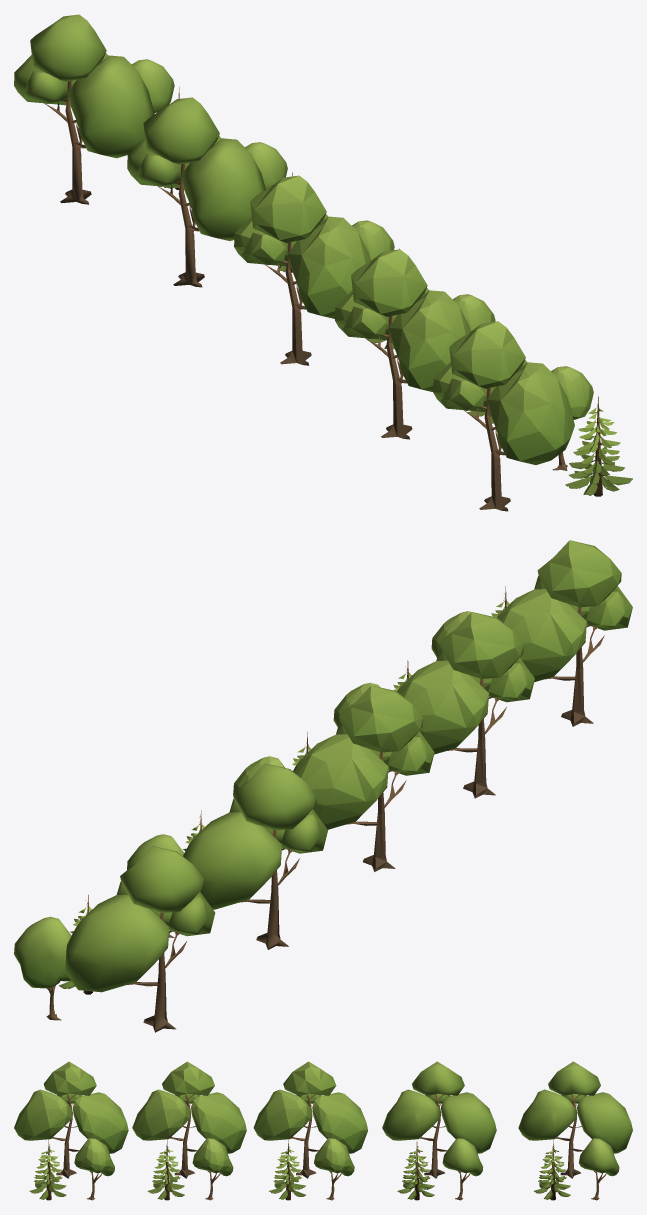
The model's file is tree_test.glb.
3 views of the same model, one above another, from view 1: azimuth 30°, elevation 25°; view 2: azimuth 150°, elevation 25°; view 3: azimuth 270°, elevation 25° (orthographic). The views are drawn at different scales.
Visible parts, largest first — view 1: Spring_Tree_10_LOD1.002, Spring_Tree_10_LOD1.004, Spring_Tree_10_LOD1.003, Spring_Tree_10_LOD1, Spring_Tree_10_LOD1.001, Spring_Tree_05_LOD1.002, Spring_Tree_13_LOD1.002, Spring_Tree_13_LOD1.004, Spring_Tree_13_LOD1.003, Spring_Tree_13_LOD1, Spring_Tree_13_LOD1.001; view 2: Spring_Tree_10_LOD1.004, Spring_Tree_10_LOD1.003, Spring_Tree_10_LOD1, Spring_Tree_10_LOD1.001, Spring_Tree_10_LOD1.002, Spring_Tree_13_LOD1.004, Spring_Tree_13_LOD1.003; view 3: Spring_Tree_10_LOD1.003, Spring_Tree_10_LOD1.004, Spring_Tree_10_LOD1.002, Spring_Tree_10_LOD1.001, Spring_Tree_10_LOD1, Spring_Tree_13_LOD1.004, Spring_Tree_13_LOD1, Spring_Tree_13_LOD1.001, Spring_Tree_13_LOD1.002, Spring_Tree_13_LOD1.003, Spring_Tree_05_LOD1.001, Spring_Tree_05_LOD1.003 (+3 smaller).
Boxes of the visible parts, left/top/right/bottom form: Spring_Tree_10_LOD1.002: left=433, top=321, right=574, bottom=511; Spring_Tree_10_LOD1.004: left=14, top=14, right=154, bottom=204; Spring_Tree_10_LOD1.003: left=127, top=97, right=265, bottom=287; Spring_Tree_10_LOD1: left=234, top=175, right=370, bottom=365; Spring_Tree_10_LOD1.001: left=335, top=249, right=470, bottom=439; Spring_Tree_05_LOD1.002: left=565, top=396, right=632, bottom=496; Spring_Tree_13_LOD1.002: left=551, top=366, right=593, bottom=470; Spring_Tree_13_LOD1.004: left=132, top=59, right=174, bottom=113; Spring_Tree_13_LOD1.003: left=245, top=142, right=287, bottom=189; Spring_Tree_13_LOD1: left=352, top=220, right=394, bottom=260; Spring_Tree_13_LOD1.001: left=453, top=294, right=495, bottom=330; Spring_Tree_10_LOD1.004: left=65, top=846, right=215, bottom=1032; Spring_Tree_10_LOD1.003: left=183, top=763, right=327, bottom=949; Spring_Tree_10_LOD1: left=293, top=685, right=434, bottom=871; Spring_Tree_10_LOD1.001: left=397, top=612, right=534, bottom=798; Spring_Tree_10_LOD1.002: left=497, top=540, right=632, bottom=726; Spring_Tree_13_LOD1.004: left=14, top=916, right=71, bottom=1020; Spring_Tree_13_LOD1.003: left=127, top=834, right=184, bottom=937; Spring_Tree_10_LOD1.003: left=382, top=1061, right=496, bottom=1178; Spring_Tree_10_LOD1.004: left=518, top=1061, right=632, bottom=1178; Spring_Tree_10_LOD1.002: left=14, top=1061, right=128, bottom=1178; Spring_Tree_10_LOD1.001: left=132, top=1061, right=246, bottom=1178; Spring_Tree_10_LOD1: left=253, top=1061, right=367, bottom=1178; Spring_Tree_13_LOD1.004: left=578, top=1138, right=619, bottom=1200; Spring_Tree_13_LOD1: left=314, top=1138, right=354, bottom=1200; Spring_Tree_13_LOD1.001: left=192, top=1138, right=233, bottom=1200; Spring_Tree_13_LOD1.002: left=74, top=1138, right=114, bottom=1200; Spring_Tree_13_LOD1.003: left=442, top=1138, right=483, bottom=1200; Spring_Tree_05_LOD1.001: left=147, top=1139, right=184, bottom=1200; Spring_Tree_05_LOD1.003: left=397, top=1141, right=434, bottom=1200.
Size of the model in its own units: 12.51 by 13.02 by 67.04.
Materials: 3 (3 with a texture image).
